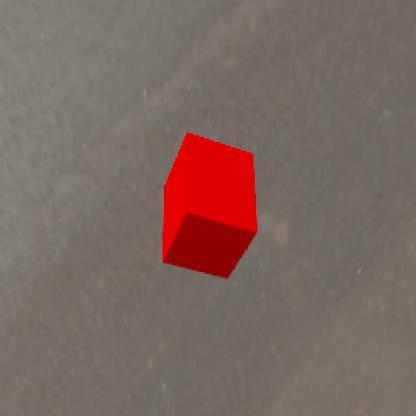red_cube: (162, 132, 258, 280)
